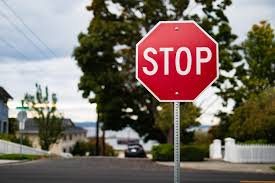stop sign: (134, 20, 221, 103)
